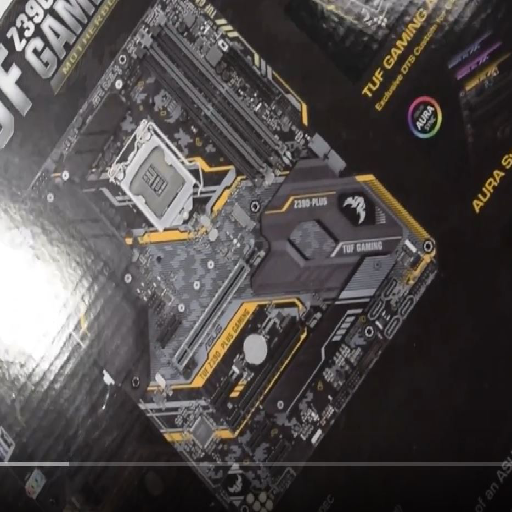CPU: (108, 132, 199, 232)
GPU: (222, 302, 323, 432), (169, 238, 266, 372)
MOTHERBOARD: (23, 2, 445, 507)
RAM: (131, 13, 297, 186)
SSD: (227, 201, 258, 234)
